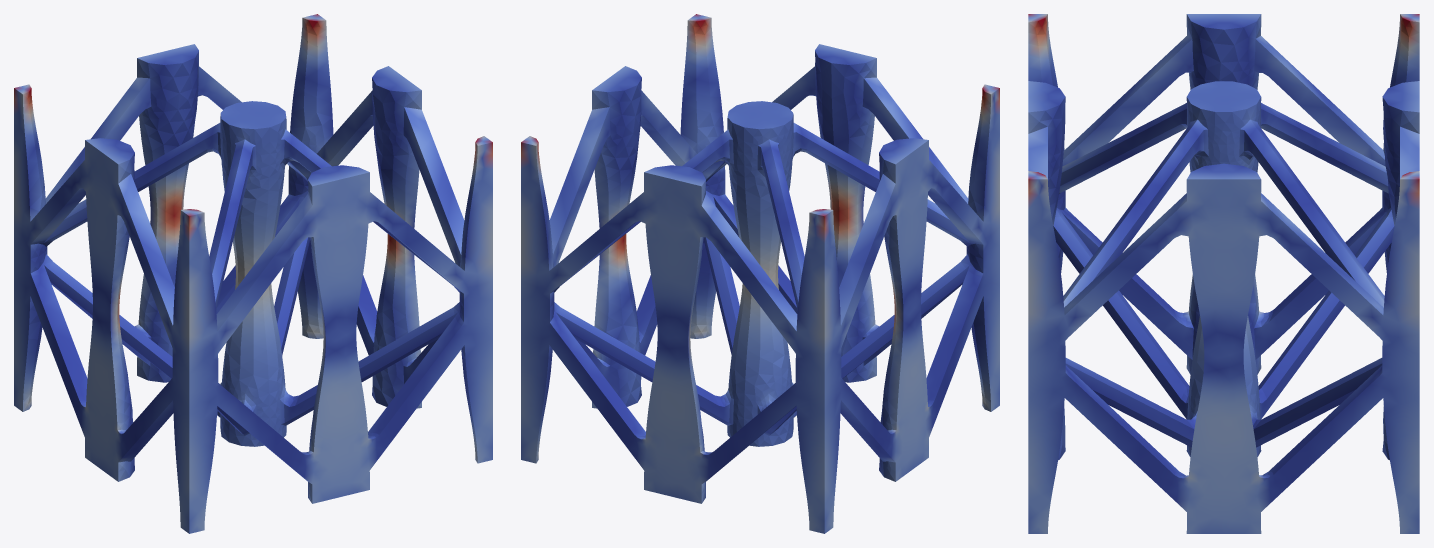
3 renders of one model, left to right at view 1: azimuth 30°, elevation 25°; view 2: azimuth 150°, elevation 25°; view 3: azimuth 270°, elevation 25°, orthographic. The views are drawn at different scales.
Parts seen in each view (by area): view 1: F1; view 2: F1; view 3: F1.
Boxes of the visible parts, bbox=[...] form: F1: bbox=[14, 14, 492, 533]; F1: bbox=[521, 14, 999, 533]; F1: bbox=[1028, 14, 1419, 533].
Bounding box in the file's own units: 0.0254 × 0.0254 × 0.0254.
